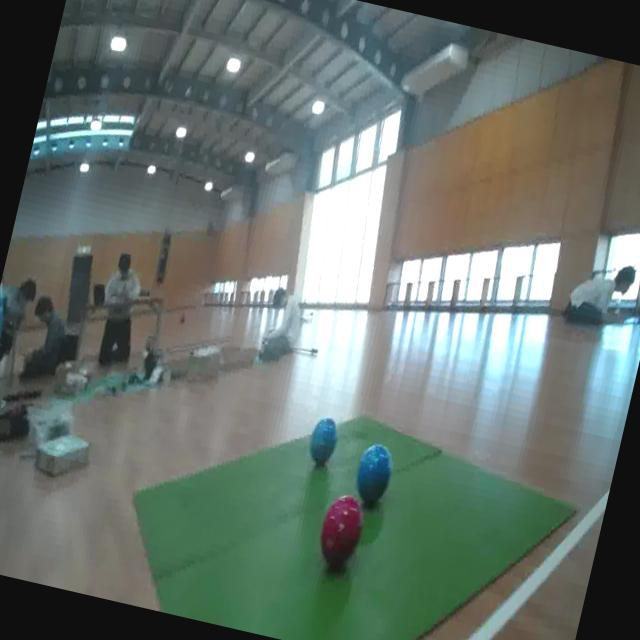blue_ball: (349, 434, 400, 507), (303, 415, 343, 470)
red_ball: (311, 486, 371, 580)
